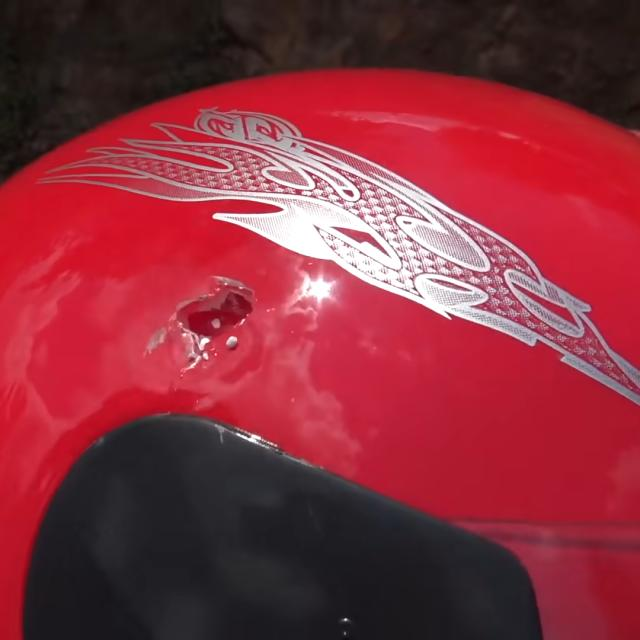bullets: (170, 274, 260, 343)
